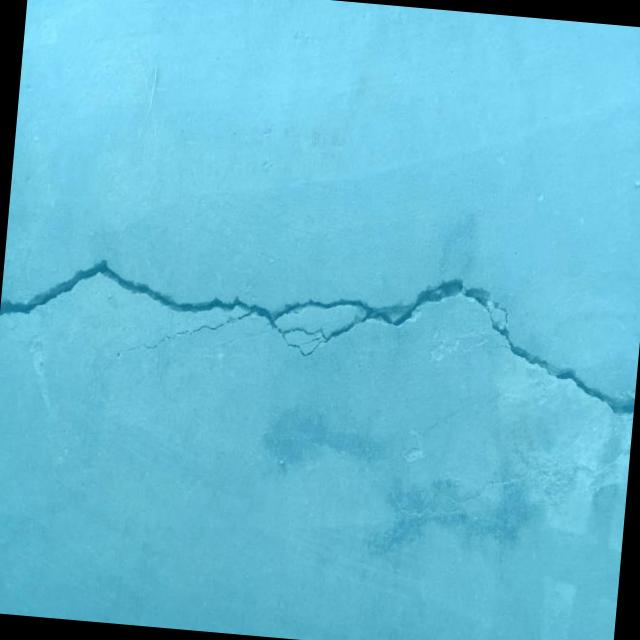crack: (0, 238, 640, 417)
